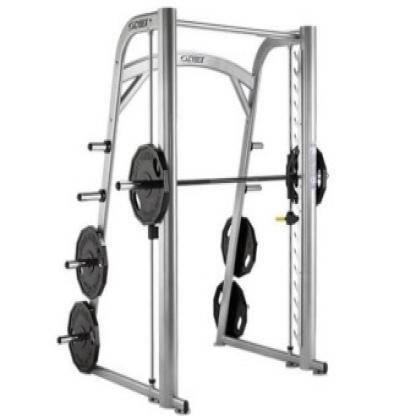smith machine: (57, 5, 328, 416)
